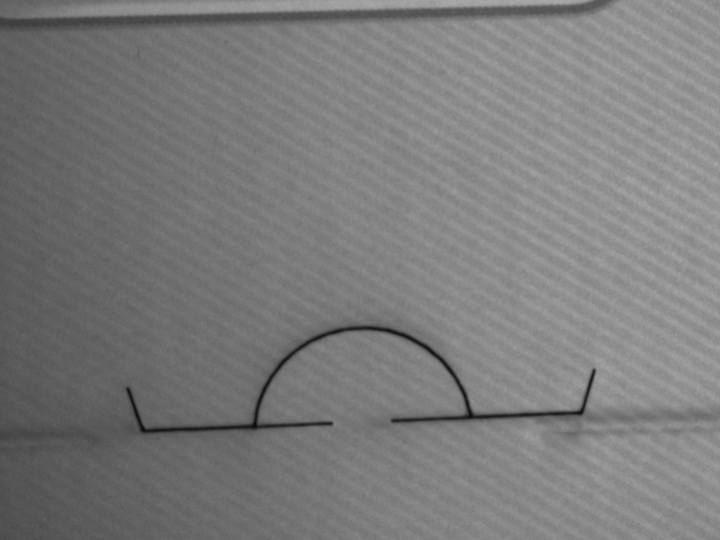cut1: (114, 318, 602, 441)
press1-1: (2, 427, 102, 455)
press1-2: (538, 411, 720, 441)
